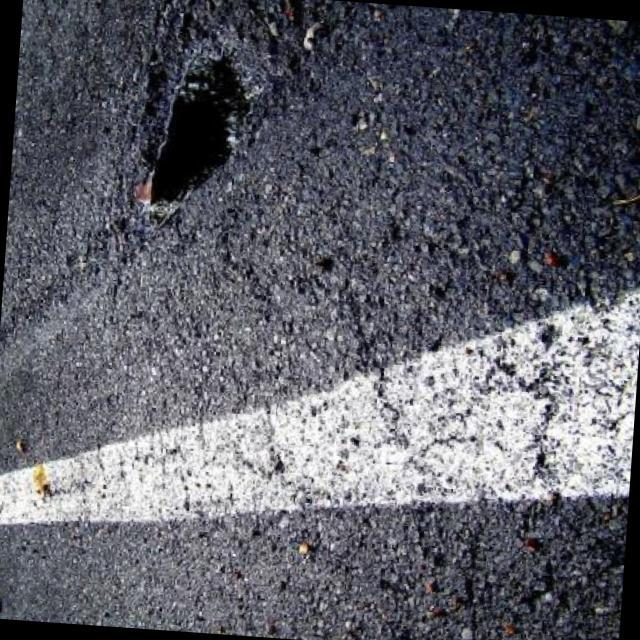pothole: (121, 6, 282, 238)
